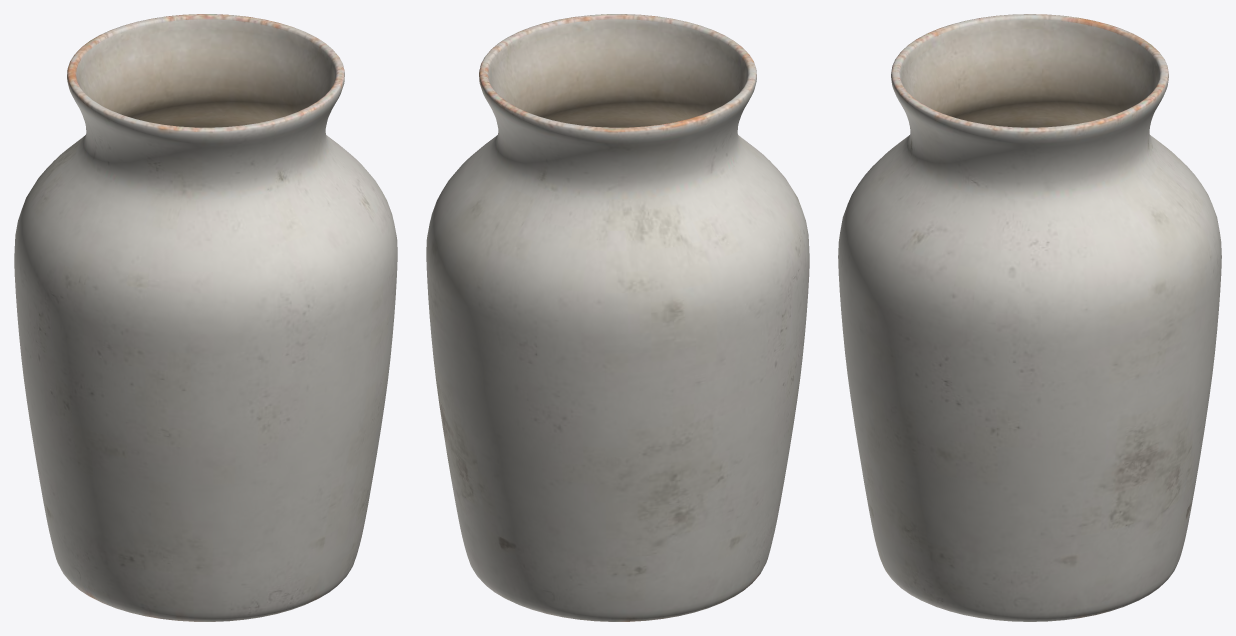
The model's file is ceramic_vase_02.glb.
3 views of the same model, side by side, from view 1: azimuth 30°, elevation 25°; view 2: azimuth 150°, elevation 25°; view 3: azimuth 270°, elevation 25° (orthographic).
Parts seen in each view (by area): view 1: ceramic_vase_02; view 2: ceramic_vase_02; view 3: ceramic_vase_02.
Part boxes in pixels (x1,y1,x2,y2): ceramic_vase_02: [14, 14, 397, 621]; ceramic_vase_02: [426, 14, 809, 621]; ceramic_vase_02: [838, 14, 1221, 621].
Bounding box in the file's own units: 0.2184 × 0.3092 × 0.2184.
1 material, 1 textured.
